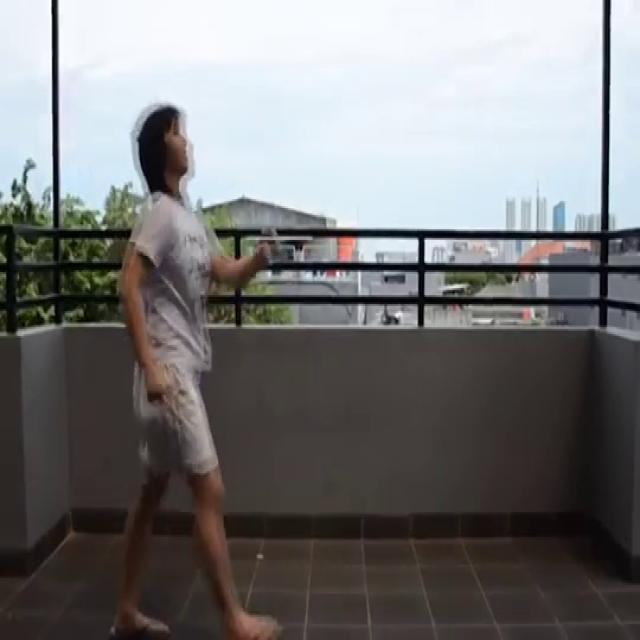normal: (118, 101, 286, 640)
